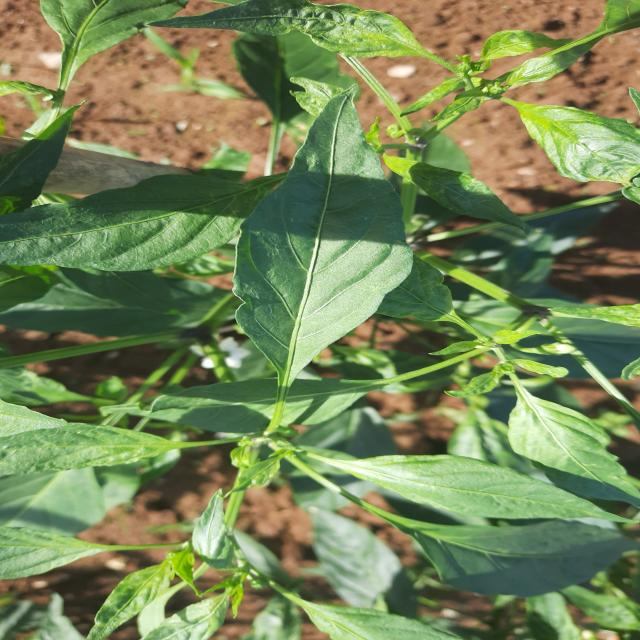sehat: (202, 88, 418, 389), (327, 453, 634, 531), (481, 393, 640, 484)
